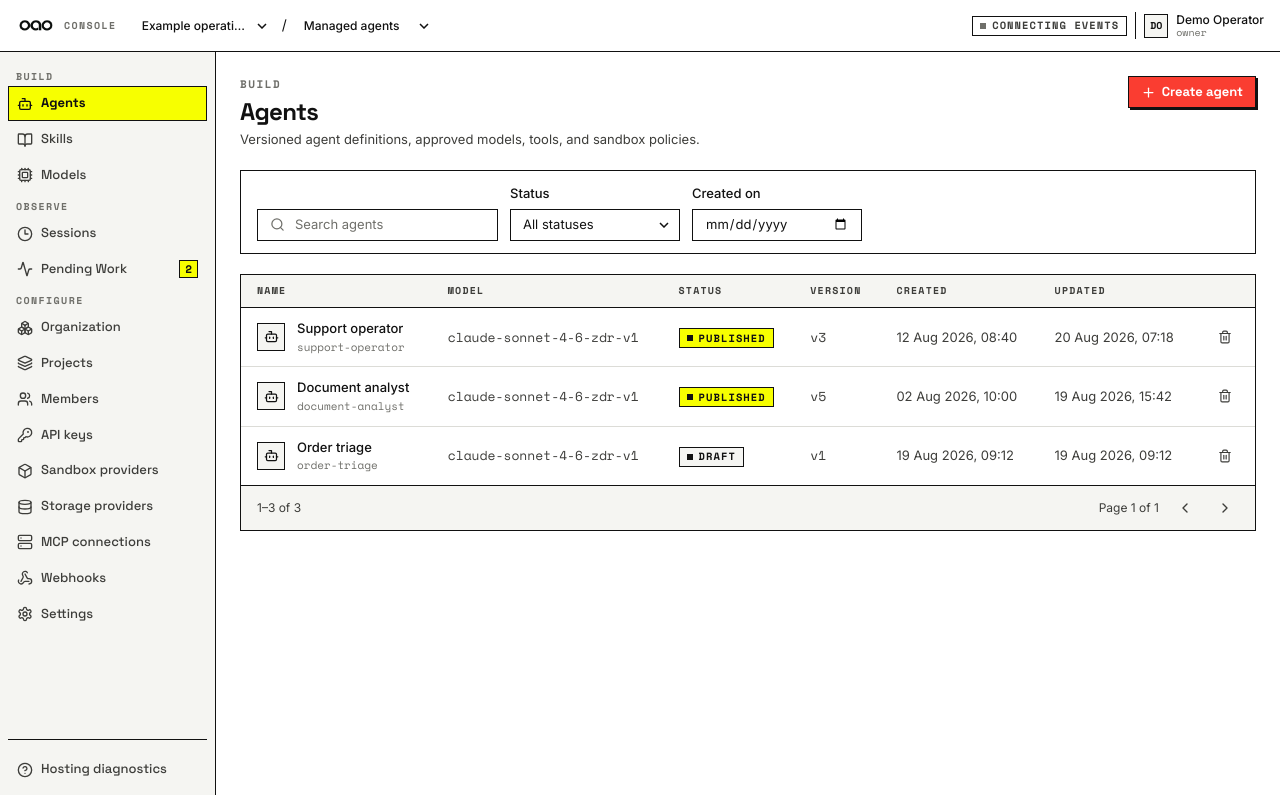
Test: management console › creates an agent without a Daytona provider when sandboxing is disabled
Click the button "Create agent" at (1192, 92), box [1128,76,1256,108]
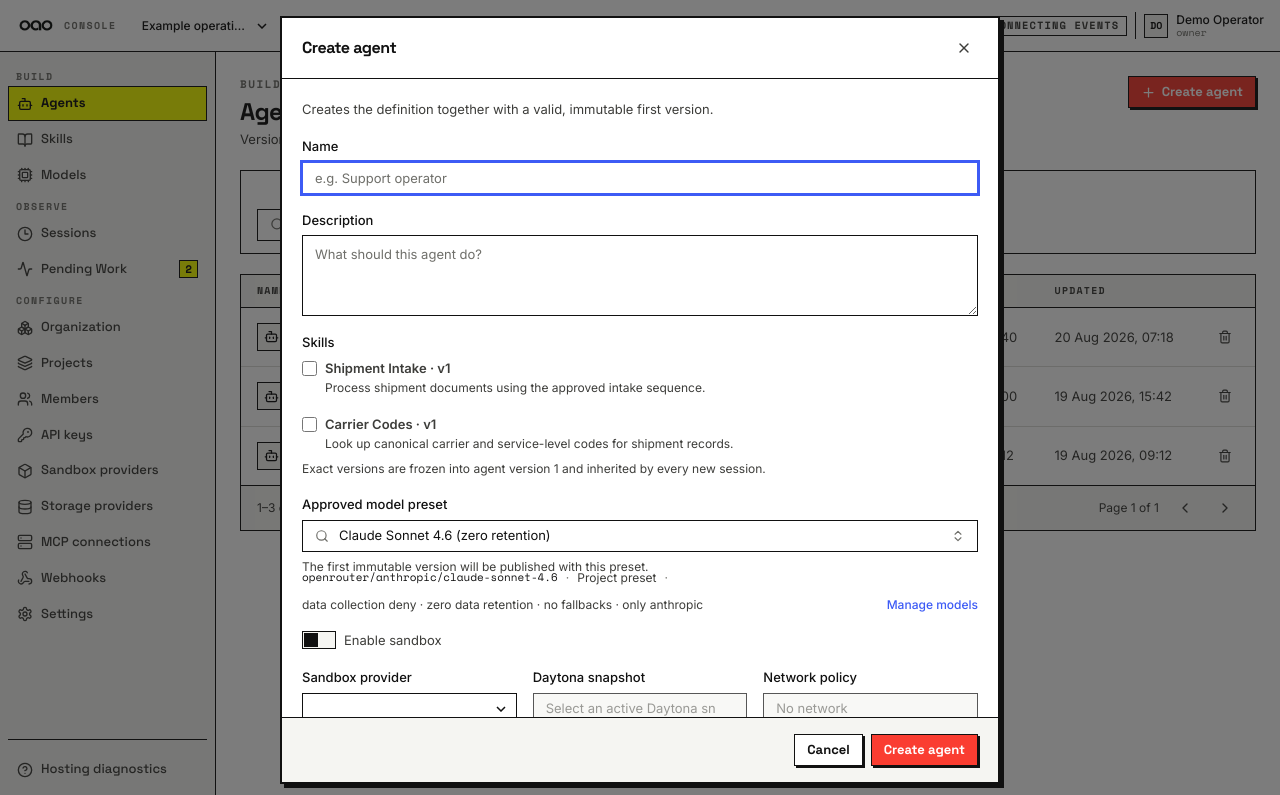
Type "Without sandbox" into the field labelled "Name" at (640, 178), box [302,162,978,194]
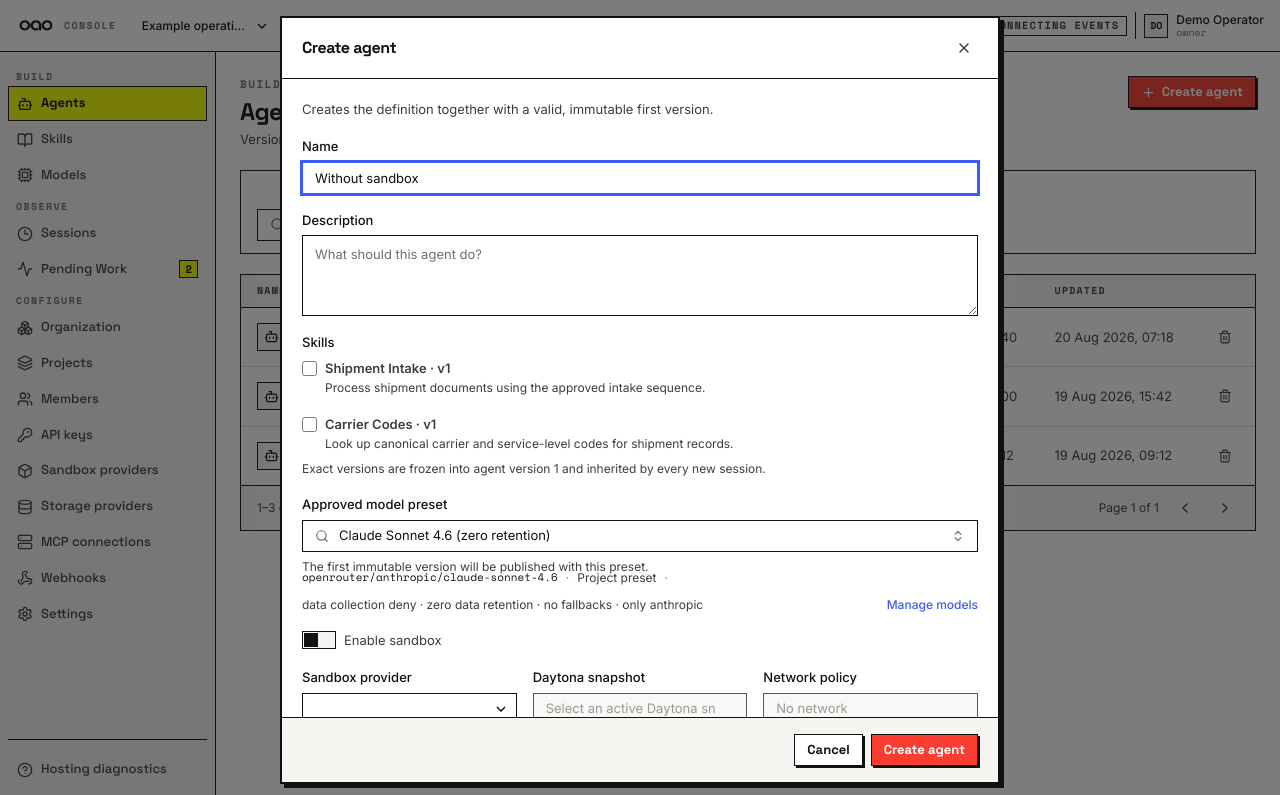
expect the button "Create agent" is enabled: met, box [871,734,978,766]
Click the checkbox labelled "Enable sandbox" at (372, 640), box [302,632,442,650]
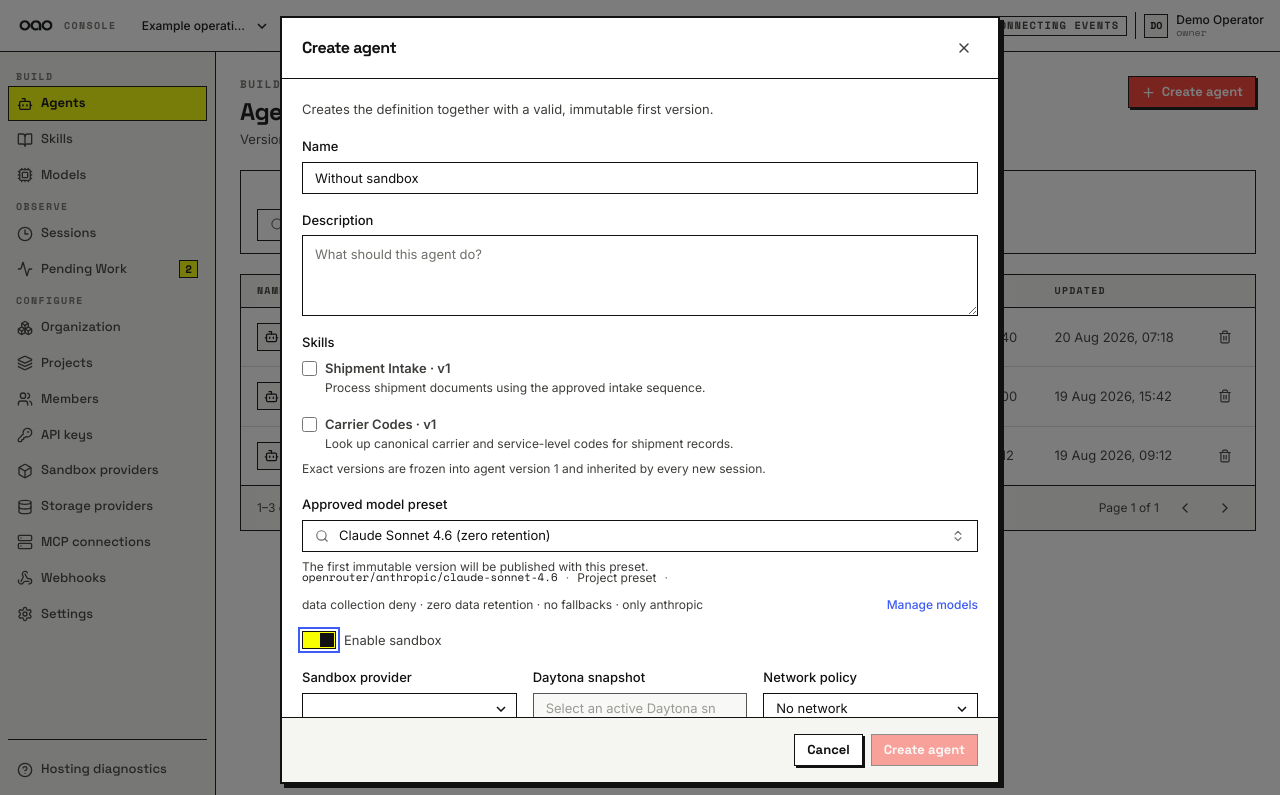
expect the button "Create agent" is disabled: met, box [871,734,978,766]
Click the checkbox labelled "Enable sandbox" at (372, 640), box [302,632,442,650]
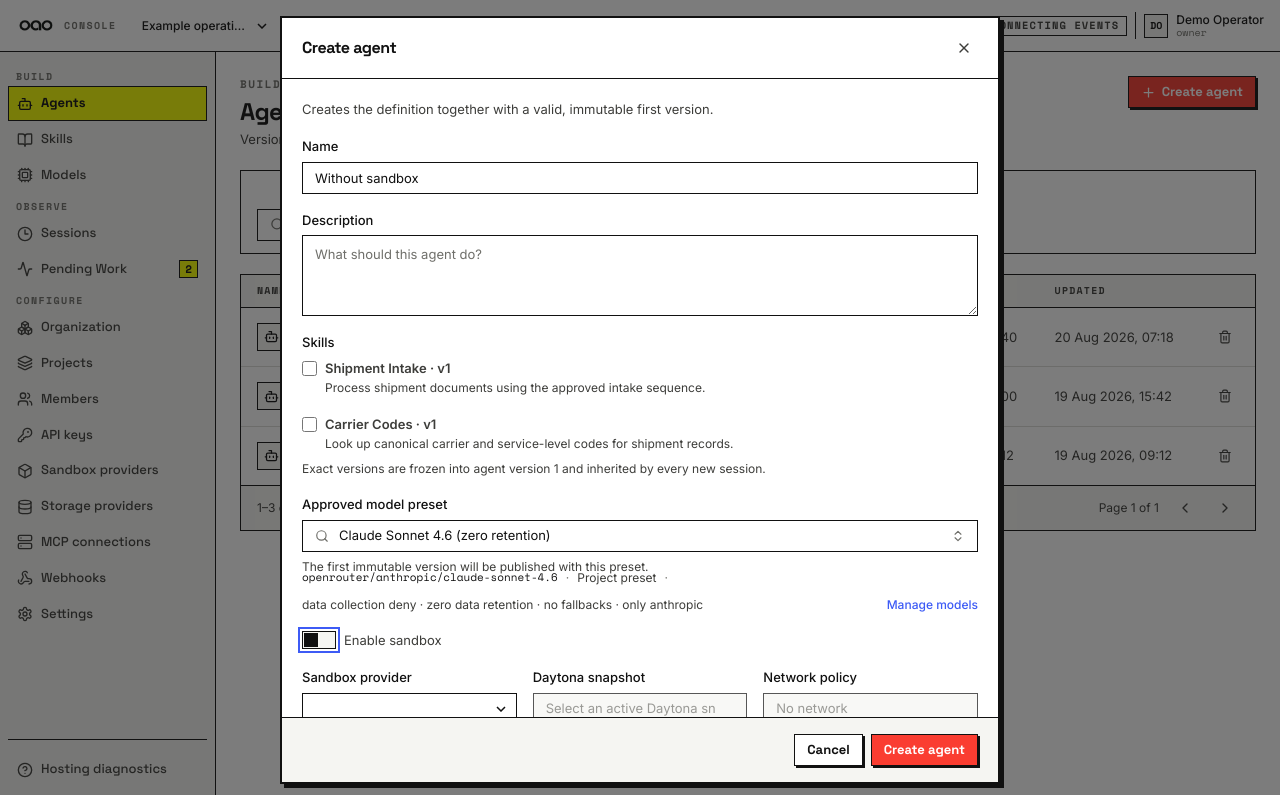
expect the button "Create agent" is enabled: met
Click the button "Create agent" at (924, 750), box [871,734,978,766]
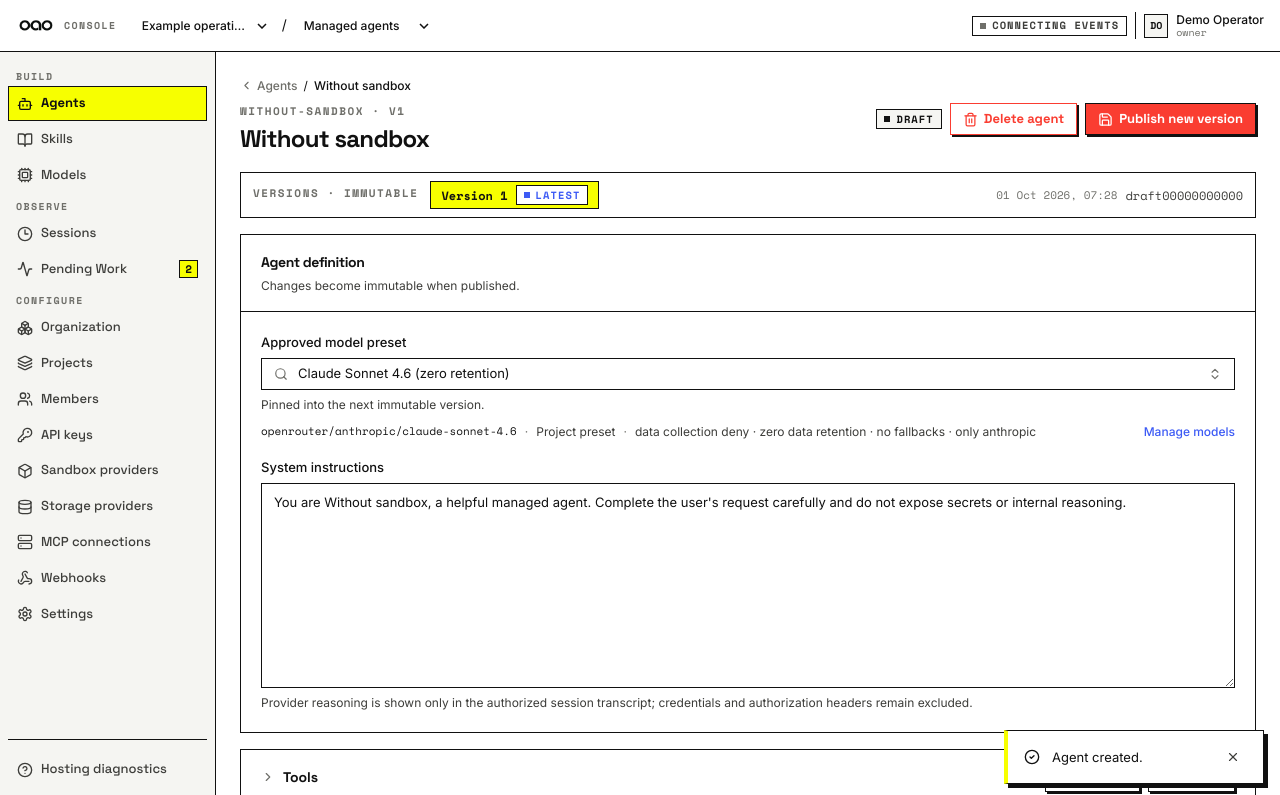
expect the heading "Without sandbox" is shown: met, box [240,125,429,152]
